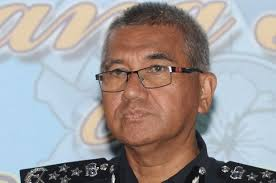middle_eastern_male: (95, 18, 200, 145)
